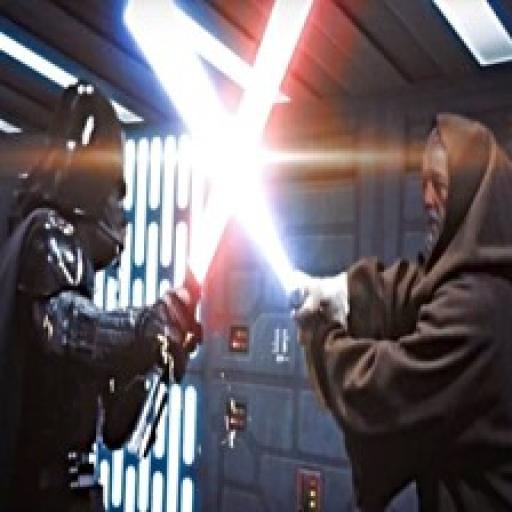human: (278, 101, 512, 512), (0, 64, 188, 512)
lightsaber: (113, 0, 335, 342)
sith saber: (131, 1, 316, 450)
